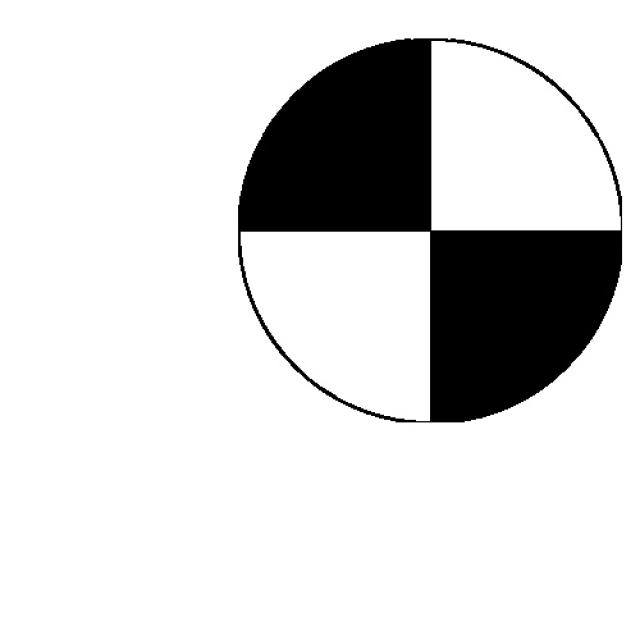Marcadores: (238, 37, 622, 422)
